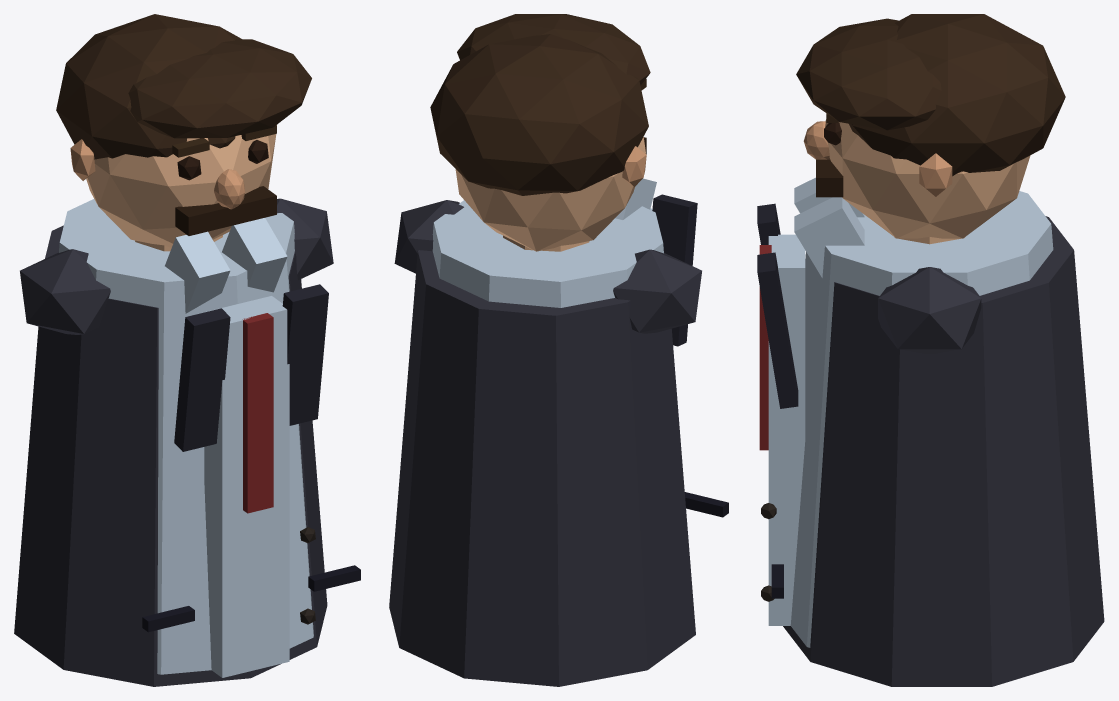
The model's file is insan_e1k_govde.glb.
The picture shows the model from 3 angles, left to right: view 1: azimuth 30°, elevation 25°; view 2: azimuth 150°, elevation 25°; view 3: azimuth 270°, elevation 25°; orthographic projection. The views are drawn at different scales.
Parts seen in each view (by area): view 1: Cone; view 2: Cone; view 3: Cone.
Boxes of the visible parts, x1,y1,x2,y2 form: Cone: (14,14,360,686); Cone: (389,14,728,686); Cone: (757,14,1104,686).
Bounding box in the file's own units: 0.1158 × 0.2171 × 0.1142.
